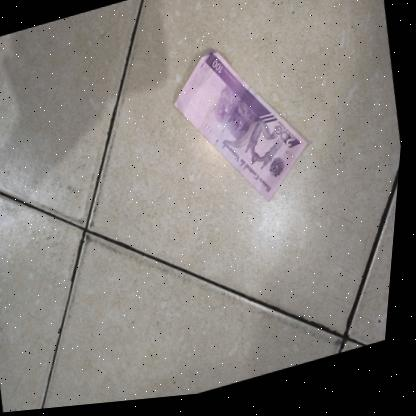one_hundred-back-vef: (157, 24, 329, 233)
